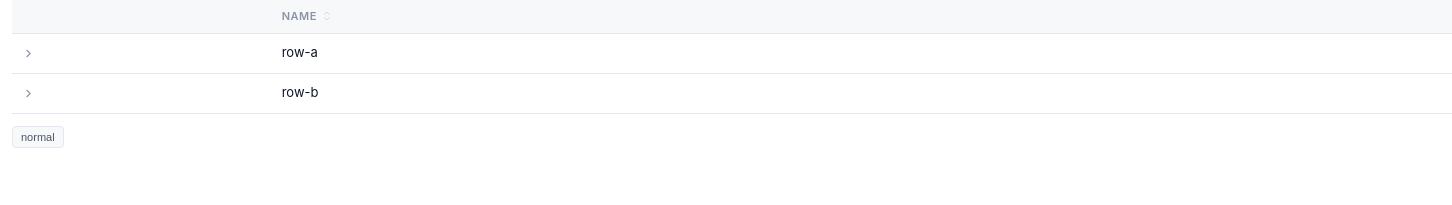
Scenario: DataTable expansion › collapses the expanded row when its id leaves the data
Click the text "row-a": (300, 52) x1=272 y1=33 x2=1451 y2=73
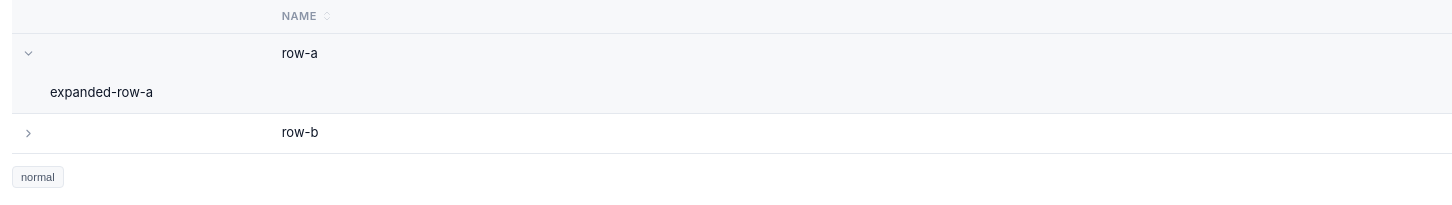
Now the text "expanded-row-a" is shown, box x1=50 y1=84 x2=153 y2=100
